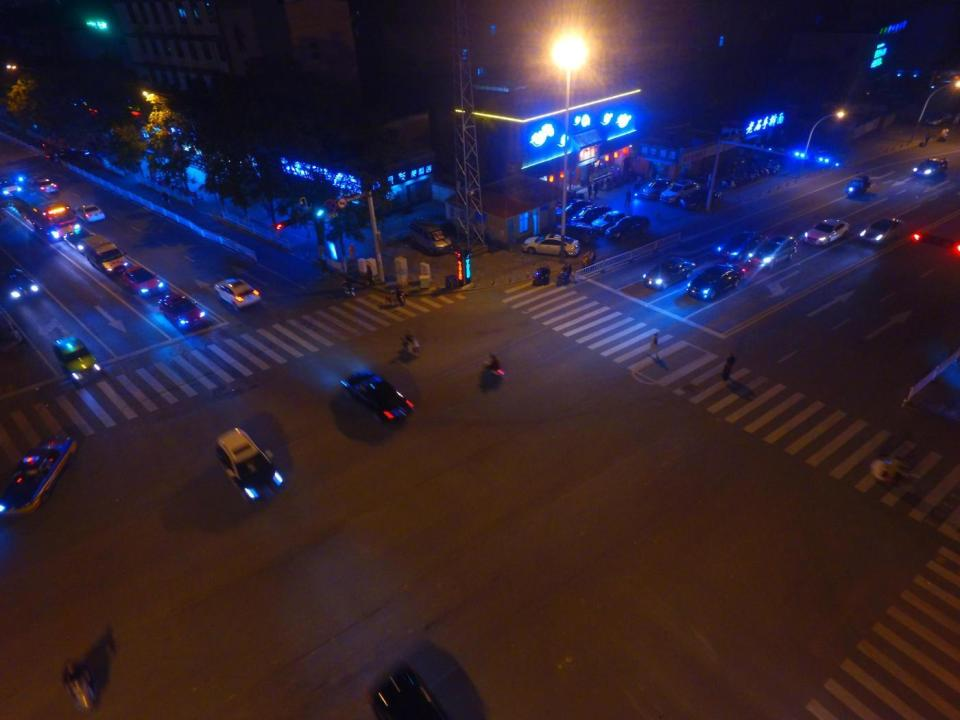bus: (12, 184, 78, 244)
car: (0, 434, 80, 521), (212, 429, 284, 502), (369, 666, 448, 720), (340, 370, 414, 423), (53, 334, 101, 387), (685, 264, 742, 302), (640, 256, 696, 294), (159, 293, 206, 334), (744, 234, 796, 270), (716, 230, 770, 261), (214, 279, 262, 311), (523, 233, 580, 257), (124, 266, 164, 298), (606, 214, 650, 243), (802, 217, 848, 244), (859, 217, 901, 246), (568, 205, 612, 228), (591, 210, 634, 233), (553, 199, 596, 222), (659, 182, 694, 204), (642, 178, 677, 200), (680, 189, 714, 211), (912, 156, 948, 176), (75, 205, 105, 226), (66, 232, 96, 253), (846, 174, 871, 199), (32, 176, 59, 198)
van: (83, 233, 126, 278), (410, 219, 452, 255)
